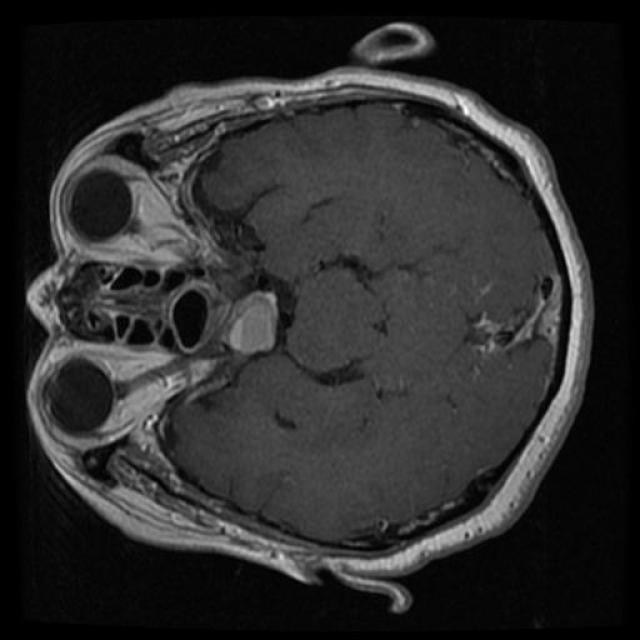Pituitary: (224, 292, 278, 354)
